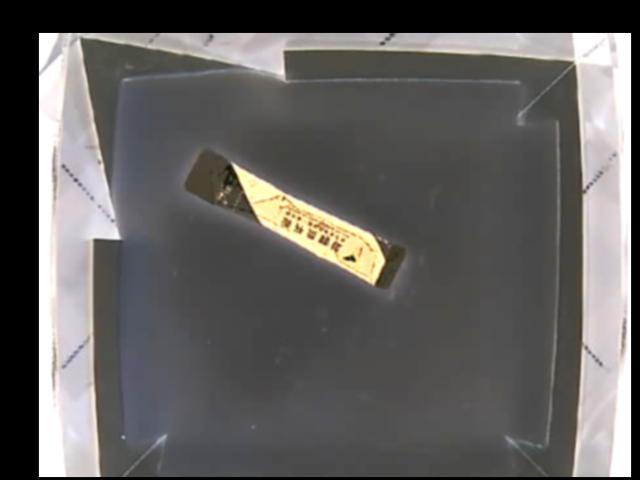Medicine: (182, 149, 409, 294)
